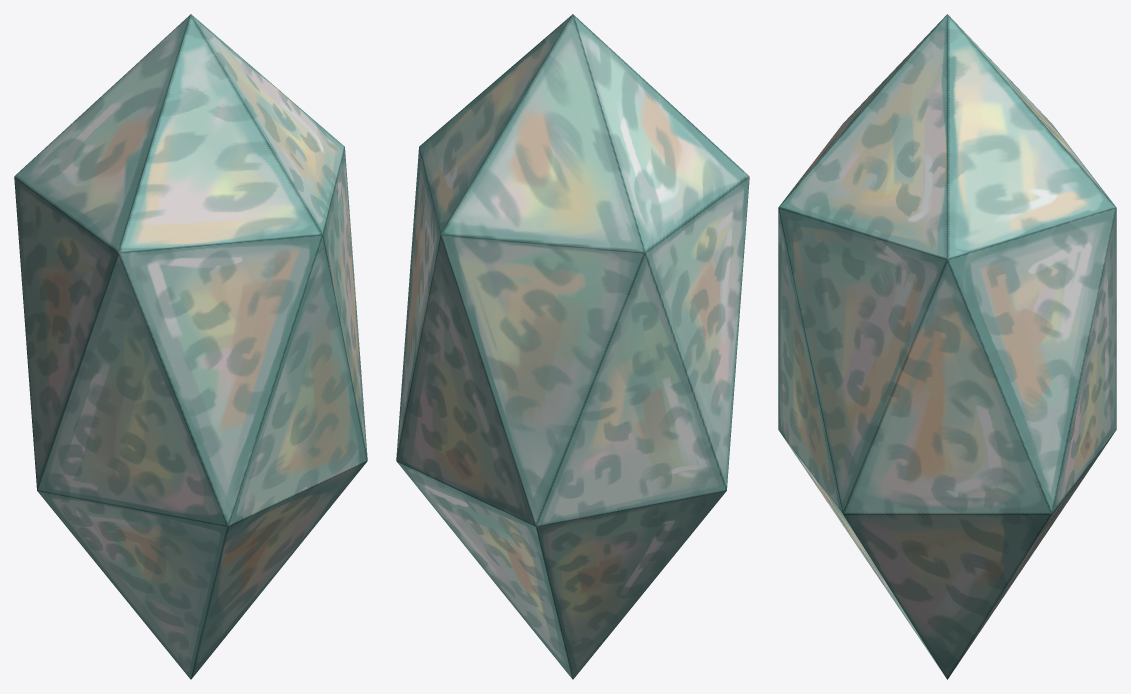
The picture shows the model from 3 angles, left to right: view 1: azimuth 30°, elevation 25°; view 2: azimuth 150°, elevation 25°; view 3: azimuth 270°, elevation 25°; orthographic projection.
Parts seen in each view (by area): view 1: Icosphere; view 2: Icosphere; view 3: Icosphere.
Part boxes in pixels (x1,y1,x2,y2): Icosphere: (14, 14, 367, 679); Icosphere: (396, 14, 749, 679); Icosphere: (778, 14, 1116, 679).
Bounding box in the file's own units: 6.29 × 13 × 5.98.
Materials: 2 (1 with a texture image).
